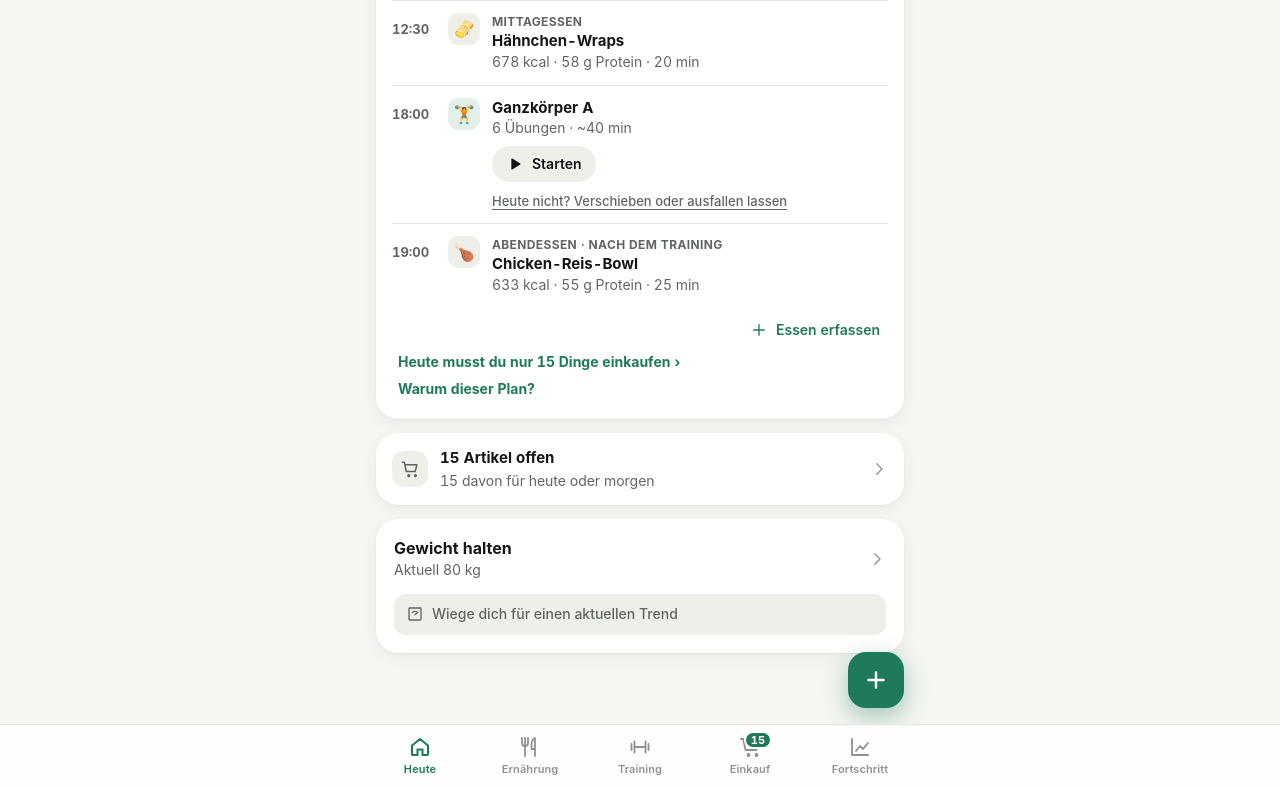
Test: personal plan on Heute › "Dein Plan" shows the day in time order with training and explains itself
This screenshot has width=1280, height=788.
(page scrolled)
Click the button "Warum dieser Plan?". click: click(466, 389)
box: [398,378,535,399]
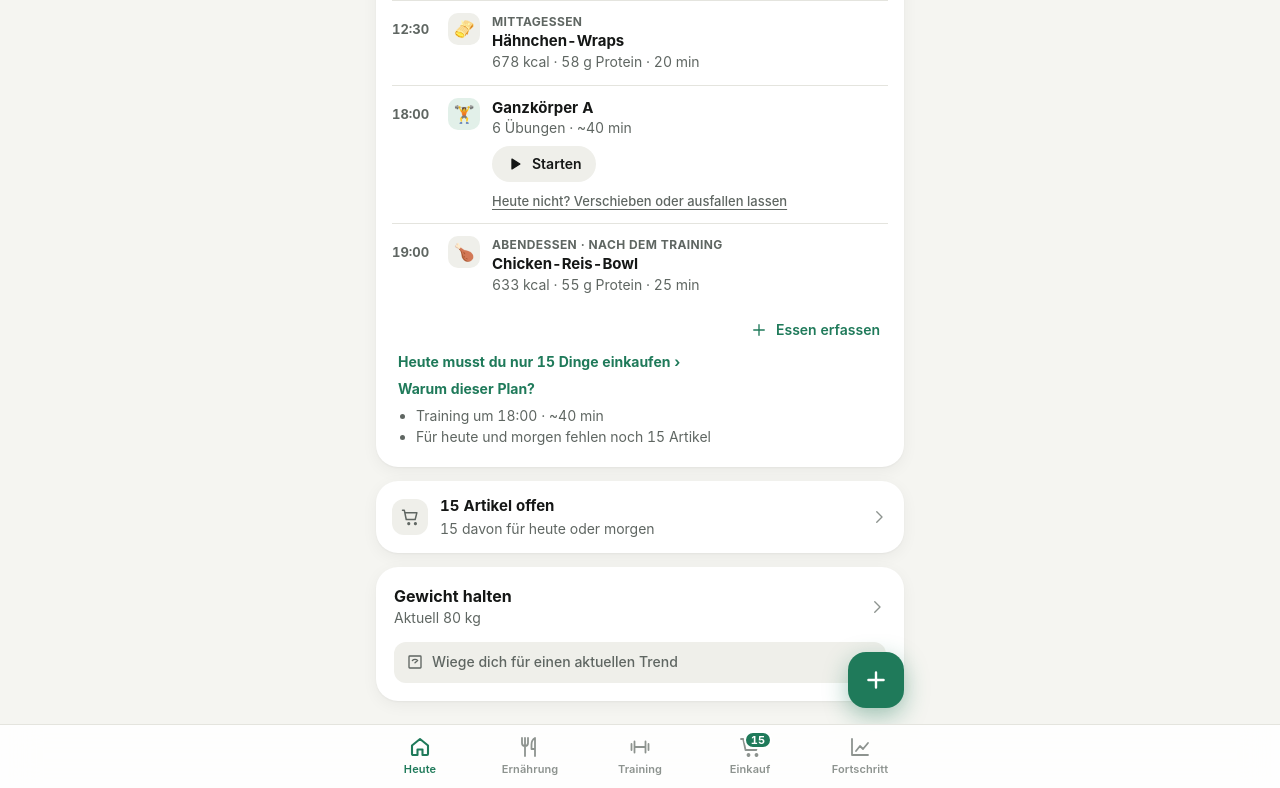
Check: the text "Training um 18:00" is shown, box [416,407,604,424]
